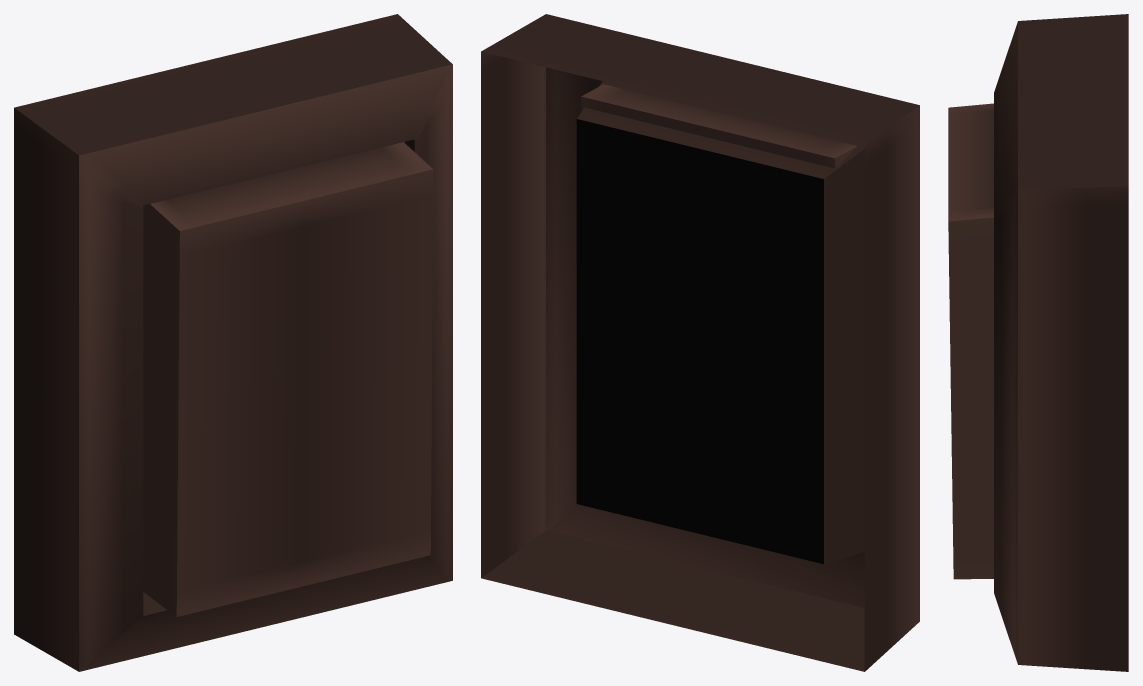
File: roof_attic_window_closed.fbx
The picture shows the model from 3 angles, left to right: view 1: azimuth 30°, elevation 25°; view 2: azimuth 150°, elevation 25°; view 3: azimuth 270°, elevation 25°; orthographic projection. The views are drawn at different scales.
Visible parts, largest first — view 1: roof_attic_window_closed; view 2: roof_attic_window_closed; view 3: roof_attic_window_closed.
Boxes of the visible parts, <box> form: roof_attic_window_closed: <box>14,14,452,671</box>; roof_attic_window_closed: <box>481,14,919,671</box>; roof_attic_window_closed: <box>948,14,1128,671</box>.
Size of the model in its own units: 67.64 by 88.75 by 29.87.
